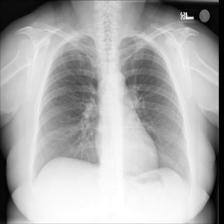normal: (28, 32, 191, 188)
